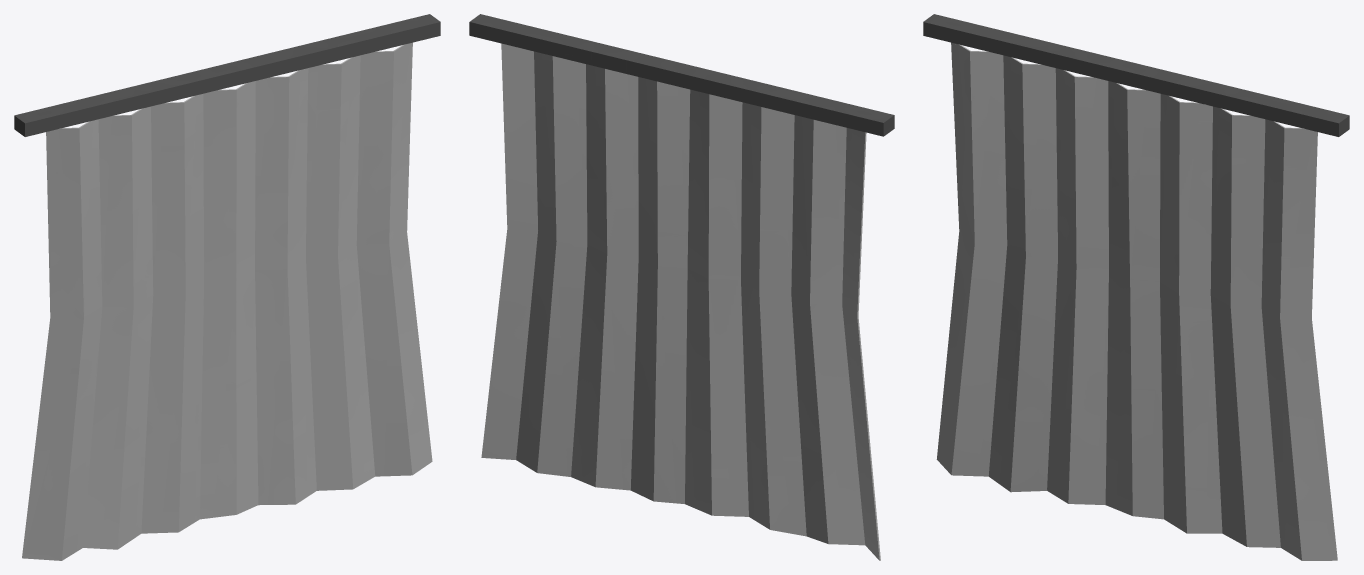
Rendered from Curtain_01_01.fbx.
The picture shows the model from 3 angles, left to right: view 1: azimuth 30°, elevation 25°; view 2: azimuth 150°, elevation 25°; view 3: azimuth 330°, elevation 25°; orthographic projection.
Visible parts, largest first — view 1: Curtain_01_01; view 2: Curtain_01_01; view 3: Curtain_01_01.
Boxes of the visible parts, x1,y1,x2,y2 form: Curtain_01_01: (14,14,440,560); Curtain_01_01: (469,14,894,560); Curtain_01_01: (923,14,1349,560).
Size of the model in its own units: 1.66 by 1.7 by 0.1047.
